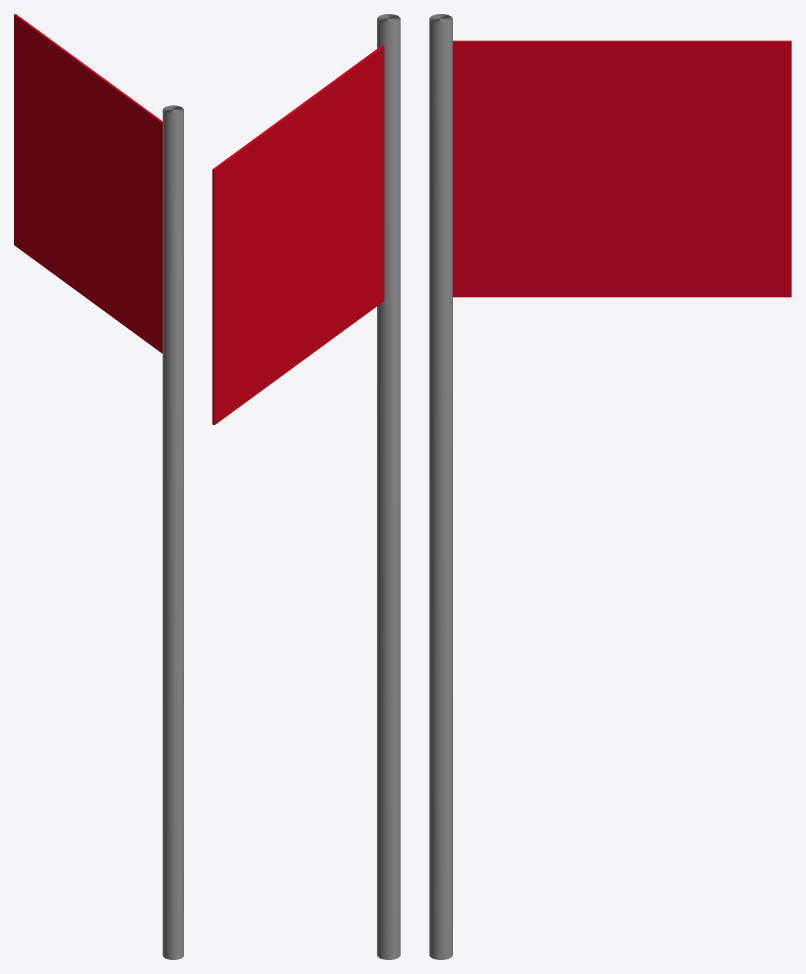
File: 旗その３6.fbx
3 renders of one model, left to right at view 1: azimuth 30°, elevation 25°; view 2: azimuth 150°, elevation 25°; view 3: azimuth 270°, elevation 25°, orthographic. The views are drawn at different scales.
Visible parts, largest first — view 1: 円柱; view 2: 円柱; view 3: 円柱.
Boxes of the visible parts, bbox=[...] form: 円柱: bbox=[14, 14, 183, 959]; 円柱: bbox=[212, 14, 400, 959]; 円柱: bbox=[429, 14, 791, 959].
Bounding box in the file's own units: 0.167 × 7.33 × 2.57.
